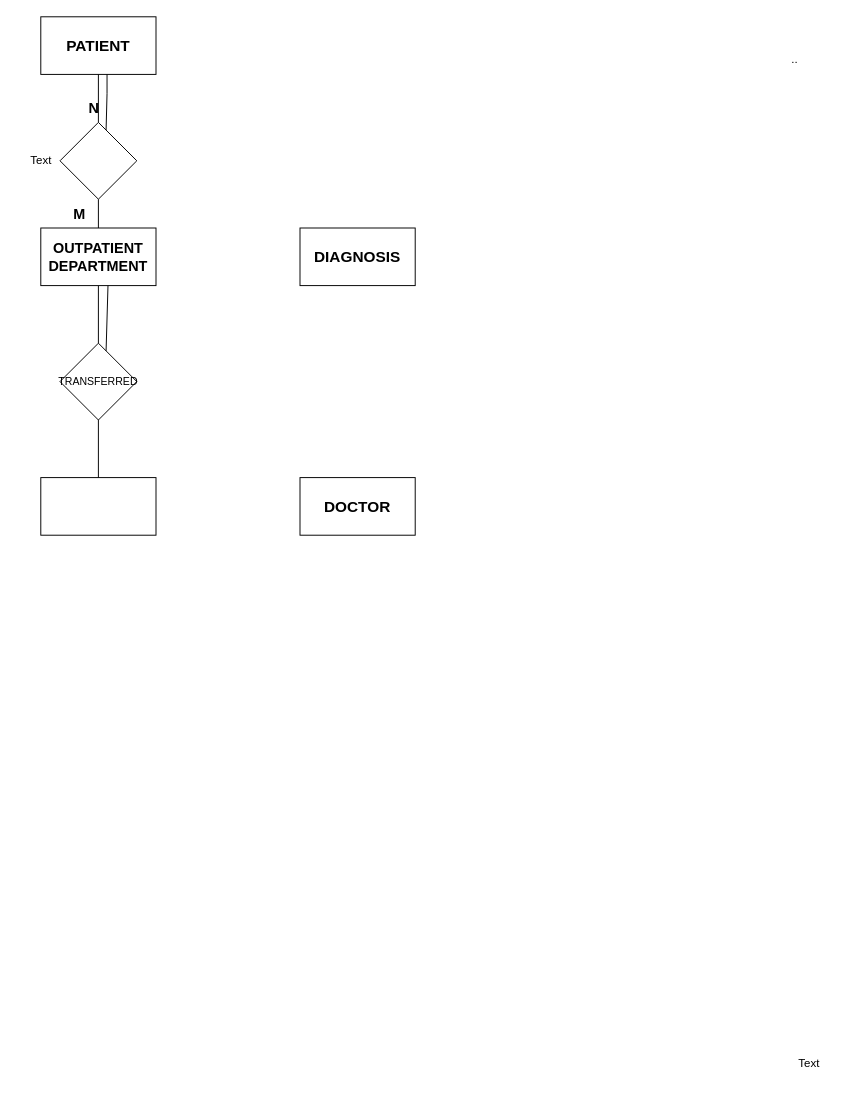
This 849x1094 diagram has some shape labels left out. Each missing label, with the centre of its shape:
"CLINIC" belongs at point (98, 506).
"COMES" belongs at point (98, 160).
